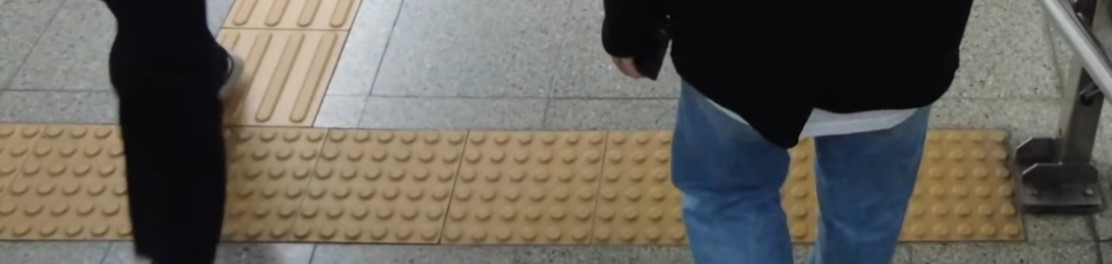guideBlock: (199, 23, 347, 117)
warningBlock: (466, 109, 610, 264), (316, 113, 453, 246), (17, 130, 158, 233), (862, 140, 1015, 232), (203, 120, 320, 238), (591, 133, 720, 231)
